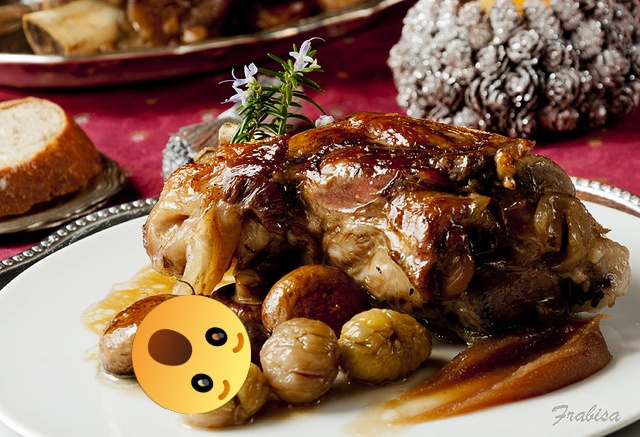wow: (132, 295, 251, 414)
